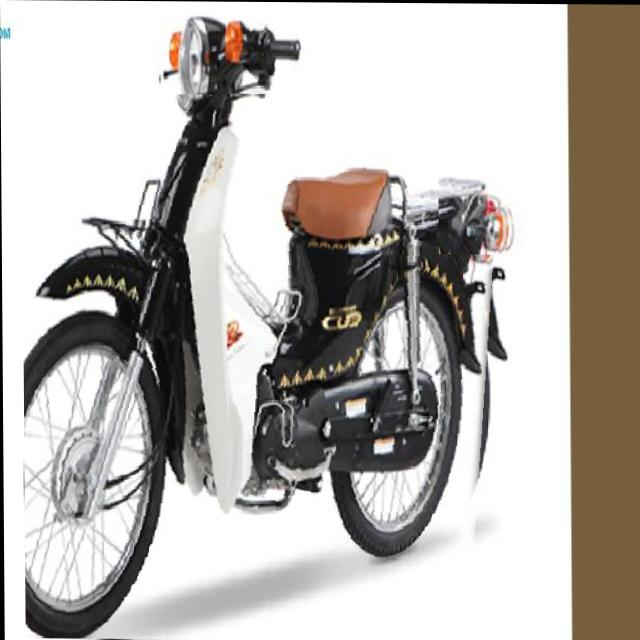All: (21, 4, 513, 640)
Head: (160, 16, 303, 95)
Tail: (438, 171, 511, 254)
